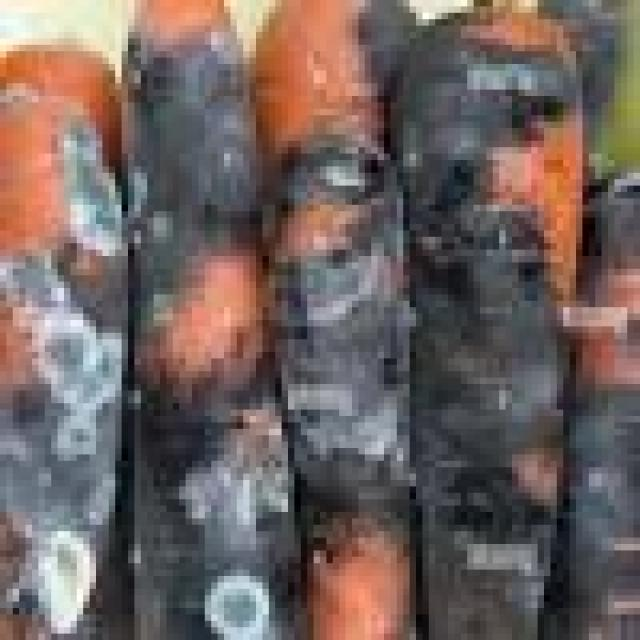Stale_Carrot: (399, 5, 581, 640), (126, 0, 291, 639), (255, 0, 409, 639), (0, 48, 121, 639), (540, 175, 640, 640)
